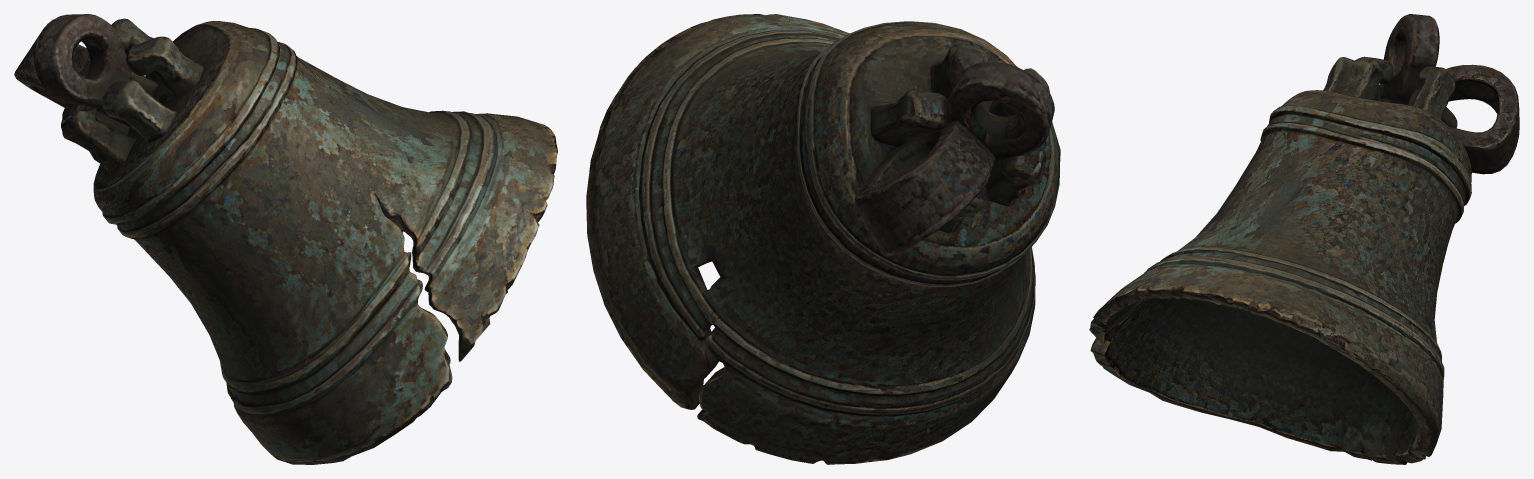
File: dungeon_fallen_bell.glb
3 views of the same model, side by side, from view 1: azimuth 30°, elevation 25°; view 2: azimuth 150°, elevation 25°; view 3: azimuth 270°, elevation 25° (orthographic). The views are drawn at different scales.
Visible parts, largest first — view 1: a45fc98d_2f00_46a9_a401_f092ed0eca2f; view 2: a45fc98d_2f00_46a9_a401_f092ed0eca2f; view 3: a45fc98d_2f00_46a9_a401_f092ed0eca2f.
Part boxes in pixels (x1,y1,x2,y2): a45fc98d_2f00_46a9_a401_f092ed0eca2f: [14, 14, 557, 464]; a45fc98d_2f00_46a9_a401_f092ed0eca2f: [586, 14, 1060, 464]; a45fc98d_2f00_46a9_a401_f092ed0eca2f: [1089, 14, 1519, 464].
Bounding box in the file's own units: 0.9995 × 0.9185 × 0.9653.
Materials: 1 (1 with a texture image).
